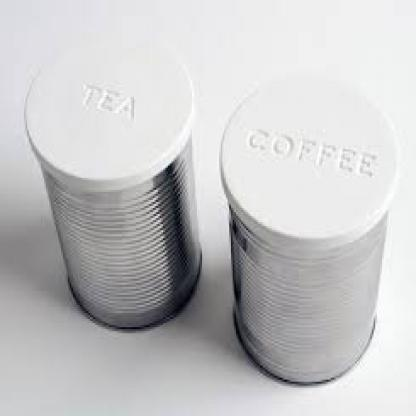METAL: (37, 131, 202, 331), (224, 186, 389, 382)
